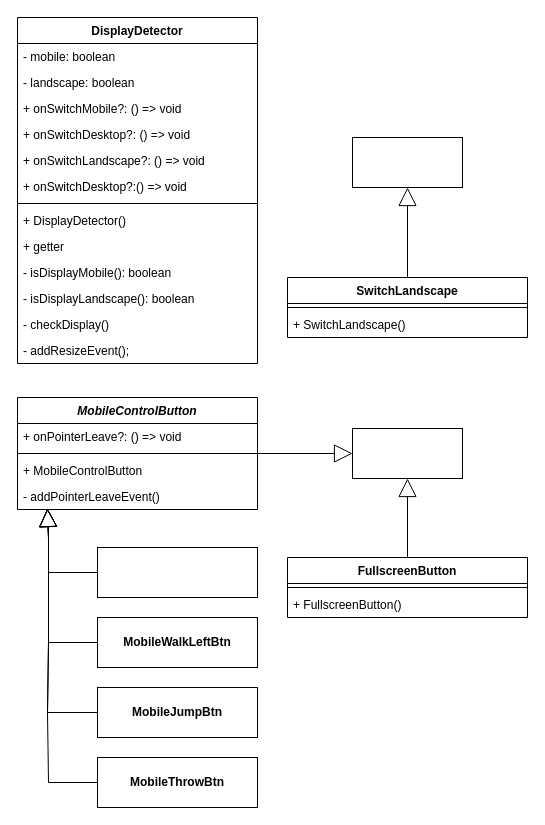
Image size: 545x825. Some labels were removed from this diagram. The shapes that lost their labels are listed below. From the top down, each one's centre as x and y in pixels, then its label:
the point at 407,162: Overlay
the point at 407,453: IconButton
the point at 177,572: MobileWalkRightBtn
